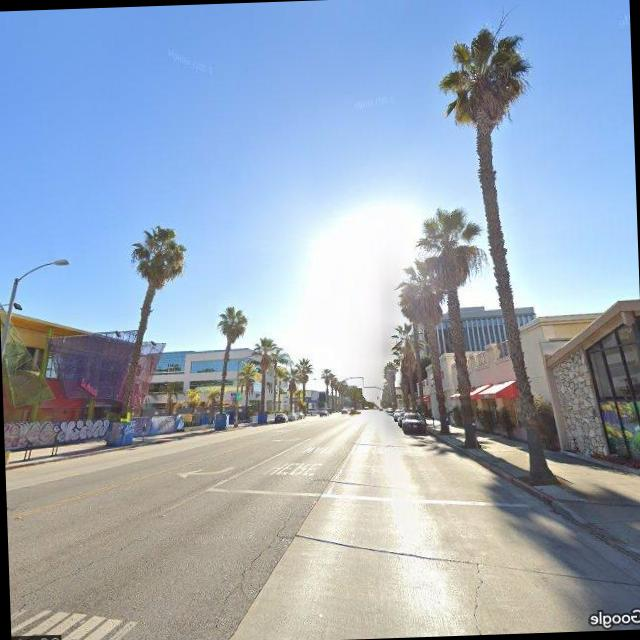pothole: (9, 531, 156, 616), (210, 506, 308, 617), (466, 562, 493, 633)
